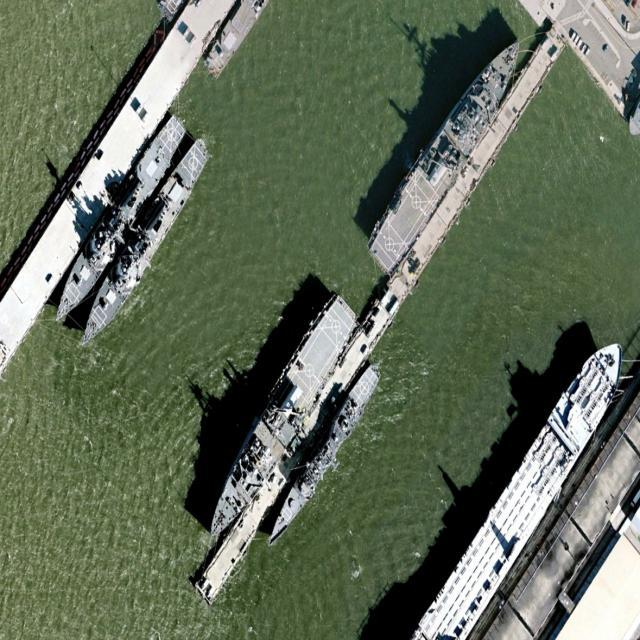Cargo: (436, 322, 638, 635)
Destroyer: (71, 129, 217, 357), (45, 107, 190, 335)
Frigate: (259, 358, 385, 554)
Landing: (193, 284, 364, 554), (360, 23, 532, 280)
